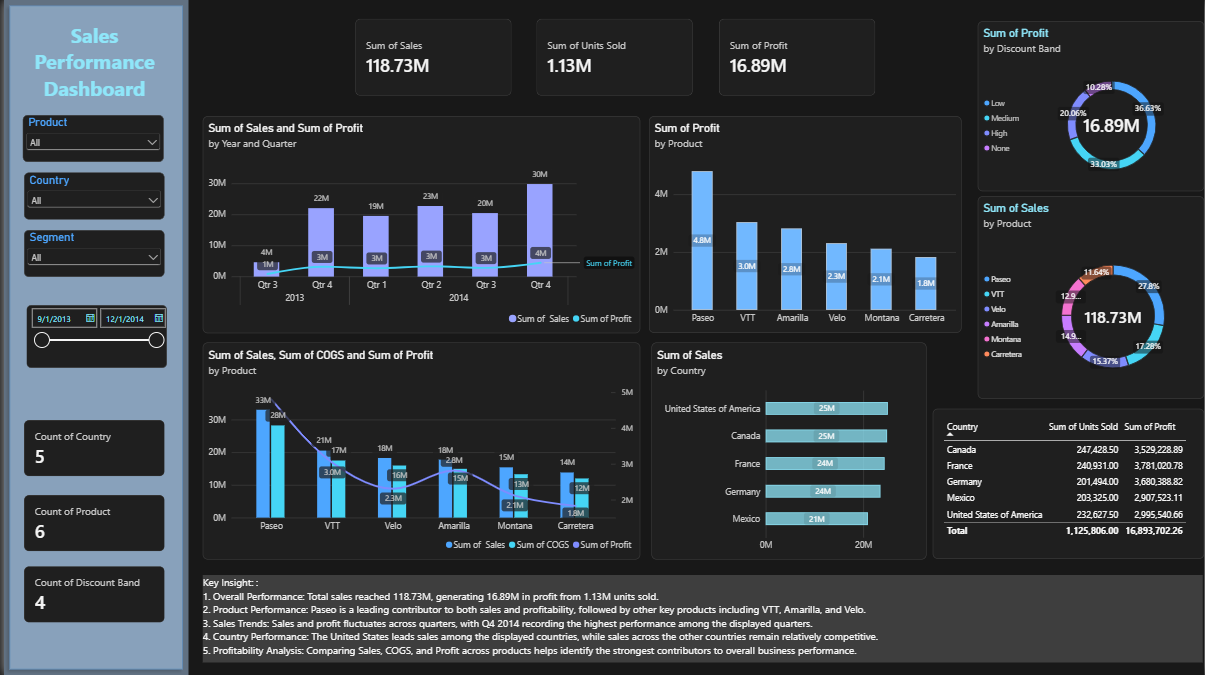

Layout of this report page (visuals, bound fields, positions):
{"tool":"powerbi","page":{"name":"Page 1","canvas":[1920,1080],"ordinal":0},"visuals":[{"type":"shape","box":[0,0,295,1080],"z":0},{"type":"slicer","fields":{"Values":["Sheet1 (2).Product"]},"box":[30.4,184.5,225.6,75.6],"z":1000},{"type":"slicer","fields":{"Values":["Sheet1 (2).Date"]},"box":[36,488,224.4,101.1],"z":2000},{"type":"cardVisual","fields":{"Data":["Sum(Sheet1 (2).Units Sold)"]},"box":[852,30.7,250,123],"z":3000},{"type":"clusteredBarChart","fields":{"Category":["Sheet1 (2).Country"],"Y":["Sum(Sheet1 (2). Sales)"]},"box":[1037,548,440,347.5],"z":4000},{"type":"donutChart","fields":{"Category":["Sheet1 (2).Discount Band"],"Y":["Sum(Sheet1 (2).Profit)"]},"box":[1558,34,362,272],"z":5000},{"type":"lineStackedColumnComboChart","fields":{"Category":["Sheet1 (2).Date.Variation.Date Hierarchy.Year","Sheet1 (2).Date.Variation.Date Hierarchy.Quarter"],"Y":["Sum(Sheet1 (2). Sales)"],"Y2":["Sum(Sheet1 (2).Profit)"]},"box":[317.5,185,700,347],"z":6000},{"type":"cardVisual","fields":{"Data":["Sum(Sheet1 (2).Profit)"]},"box":[1143.7,30.7,250,123.3],"z":7000},{"type":"slicer","fields":{"Values":["Sheet1 (2).Country"]},"box":[31,276.2,225,75],"z":8000},{"type":"slicer","fields":{"Values":["Sheet1 (2).Segment"]},"box":[32.7,367.9,225,75],"z":9000},{"type":"cardVisual","fields":{"Data":["Count(Sheet1 (2).Country)"]},"box":[31.5,672.5,225,90],"z":10000},{"type":"cardVisual","fields":{"Data":["Count(Sheet1 (2).Product)"]},"box":[32.1,792.5,225,90],"z":11000},{"type":"cardVisual","fields":{"Data":["Count(Sheet1 (2).Discount Band)"]},"box":[32.1,905.9,225,90],"z":12000},{"type":"cardVisual","fields":{"Data":["Sum(Sheet1 (2). Sales)"]},"box":[562,30.7,250,123.3],"z":13000},{"type":"columnChart","fields":{"Category":["Sheet1 (2).Product"],"Y":["Sum(Sheet1 (2).Profit)"]},"box":[1031.7,186.7,500,346.7],"z":14000},{"type":"lineClusteredColumnComboChart","fields":{"Category":["Sheet1 (2).Product"],"Y":["Sum(Sheet1 (2). Sales)","Sum(Sheet1 (2).COGS)"],"Y2":["Sum(Sheet1 (2).Profit)"]},"box":[318.7,548,700,347],"z":15000},{"type":"donutChart","fields":{"Category":["Sheet1 (2).Product"],"Y":["Sum(Sheet1 (2). Sales)"]},"box":[1558,314,362,324],"z":16000},{"type":"tableEx","fields":{"Values":["Sheet1 (2).Country","Sum(Sheet1 (2).Units Sold)","Sum(Sheet1 (2).Profit)"]},"box":[1486,654,434,240],"z":17000},{"type":"textbox","box":[12.2,33.3,265.6,133.3],"z":18000},{"type":"textbox","box":[318,920,1600,140],"z":18002}]}

Visuals, with their boxes in screenshot pixels (x1, y1, x2, y2), scaled from the page's 1920x1080 canvas onto the 1205x675 screenshot:
shape: [0,0,185,674]
slicer - Sheet1 (2).Product: [19,115,161,163]
slicer - Sheet1 (2).Date: [23,305,163,368]
cardVisual - Sum(Sheet1 (2).Units Sold): [535,19,692,96]
clusteredBarChart - Sheet1 (2).Country x Sum(Sheet1 (2). Sales): [651,342,927,560]
donutChart - Sheet1 (2).Discount Band x Sum(Sheet1 (2).Profit): [978,21,1204,191]
lineStackedColumnComboChart - Sheet1 (2).Date.Variation.Date Hierarchy.Year x Sheet1 (2).Date.Variation.Date Hierarchy.Quarter: [199,116,639,332]
cardVisual - Sum(Sheet1 (2).Profit): [718,19,875,96]
slicer - Sheet1 (2).Country: [19,173,161,220]
slicer - Sheet1 (2).Segment: [21,230,162,277]
cardVisual - Count(Sheet1 (2).Country): [20,420,161,477]
cardVisual - Count(Sheet1 (2).Product): [20,495,161,552]
cardVisual - Count(Sheet1 (2).Discount Band): [20,566,161,622]
cardVisual - Sum(Sheet1 (2). Sales): [353,19,510,96]
columnChart - Sheet1 (2).Product x Sum(Sheet1 (2).Profit): [647,117,961,333]
lineClusteredColumnComboChart - Sheet1 (2).Product x Sum(Sheet1 (2). Sales): [200,342,639,559]
donutChart - Sheet1 (2).Product x Sum(Sheet1 (2). Sales): [978,196,1204,399]
tableEx - Sheet1 (2).Country x Sum(Sheet1 (2).Units Sold): [933,409,1204,559]
textbox: [8,21,174,104]
textbox: [200,575,1204,662]
